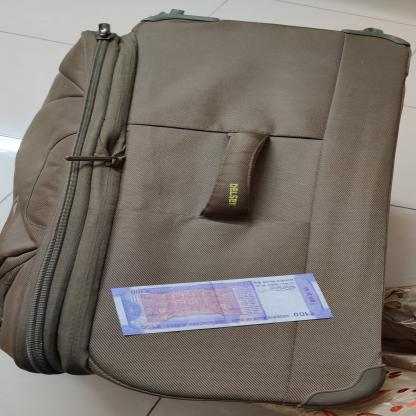New100Back: (107, 272, 338, 338)
